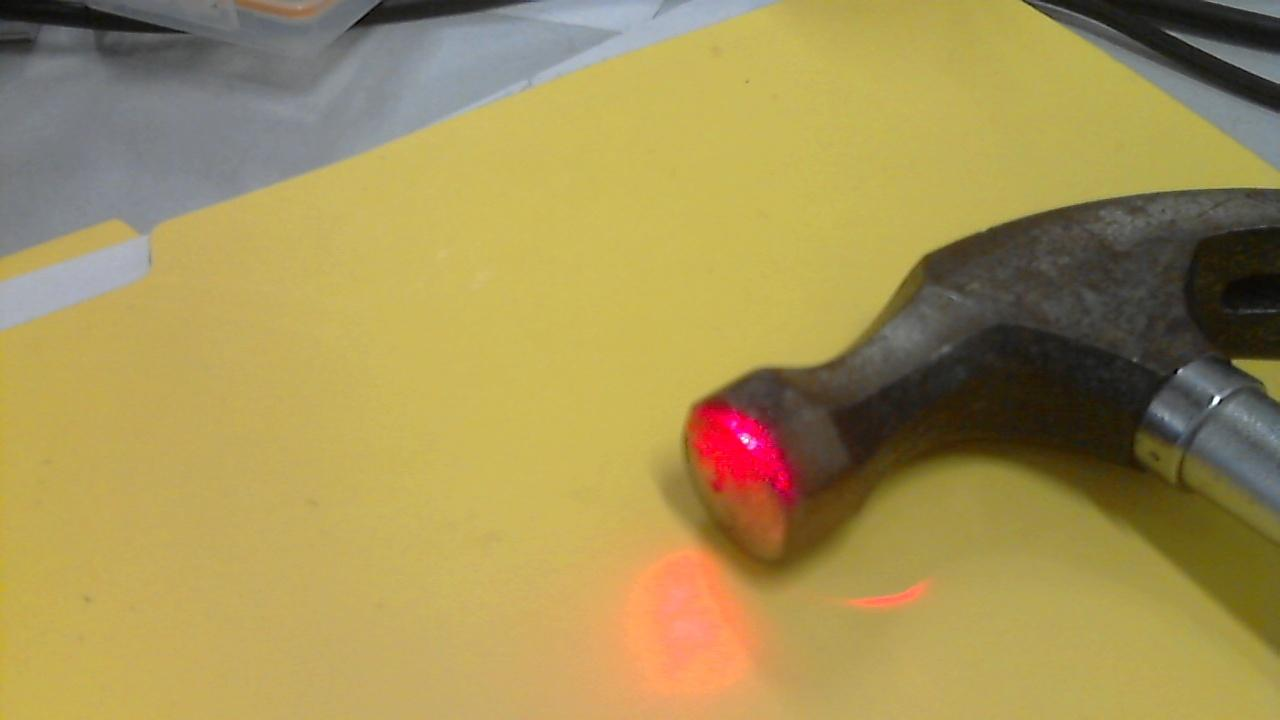Object claw hammer -Material metal - Pdfname 2LKzx9zgCNVB: (688, 395, 810, 512)
